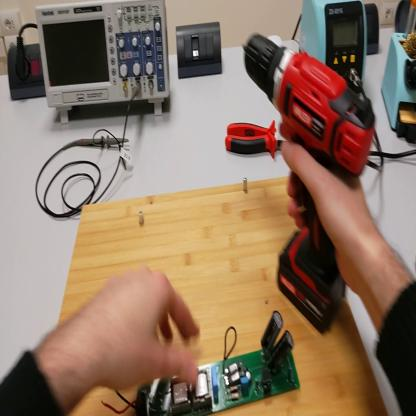electric screwdriver: (241, 33, 377, 334)
hand: (80, 267, 201, 397), (283, 134, 379, 296)
high voltage board: (101, 308, 299, 416)
oscilloscope: (35, 2, 170, 131)
oscilloscope probe tip: (77, 133, 130, 151)
pliers: (225, 124, 286, 162)
socket: (7, 45, 47, 104), (365, 8, 383, 57)
welder base: (381, 1, 416, 151)
welder station: (300, 1, 367, 90)
working area: (59, 176, 389, 415)
